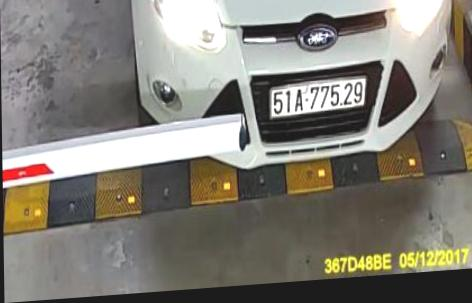License_Plate: (266, 72, 367, 119)
